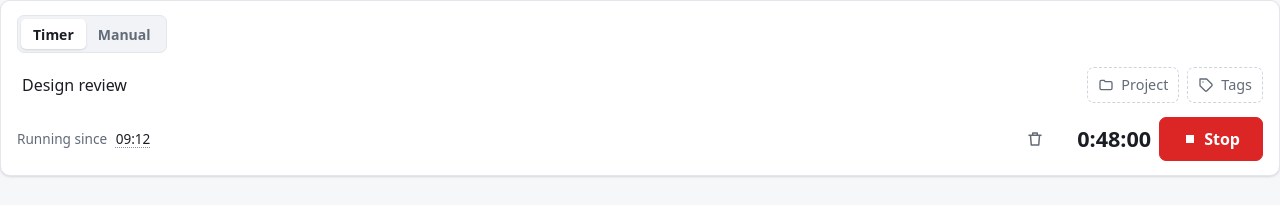
Test: editing the start of a running timer › rejects a start in the future and keeps the typed value
This screenshot has width=1280, height=205.
Step 1. Click the button named "Edit start time" → click(133, 139), box x1=111 y1=125 x2=155 y2=153
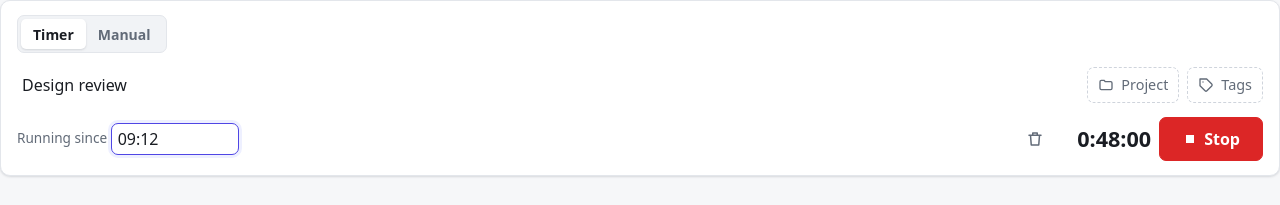
Step 2. Replace the text in the field named "Edit start time" with "10:30" → (175, 139), box x1=111 y1=123 x2=239 y2=155
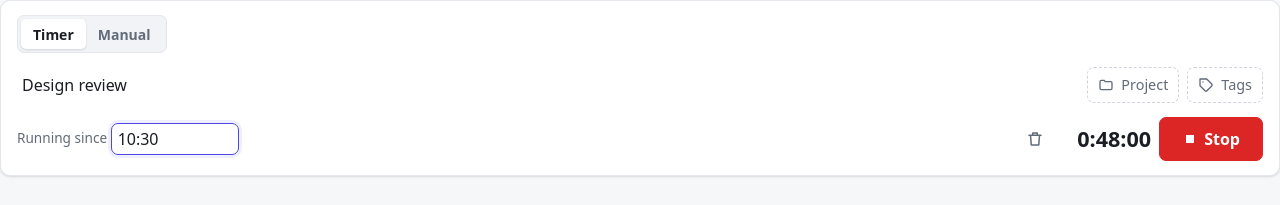
Step 3. Press Enter in the field named "Edit start time", box x1=111 y1=123 x2=239 y2=155
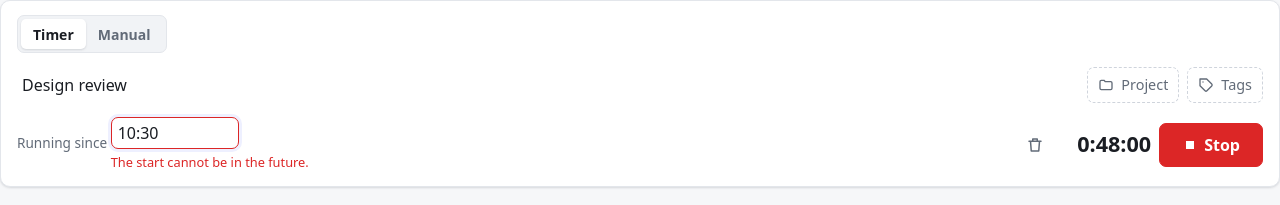
Result: the message reads "The start cannot be in the future." at x1=111 y1=153 x2=309 y2=171
